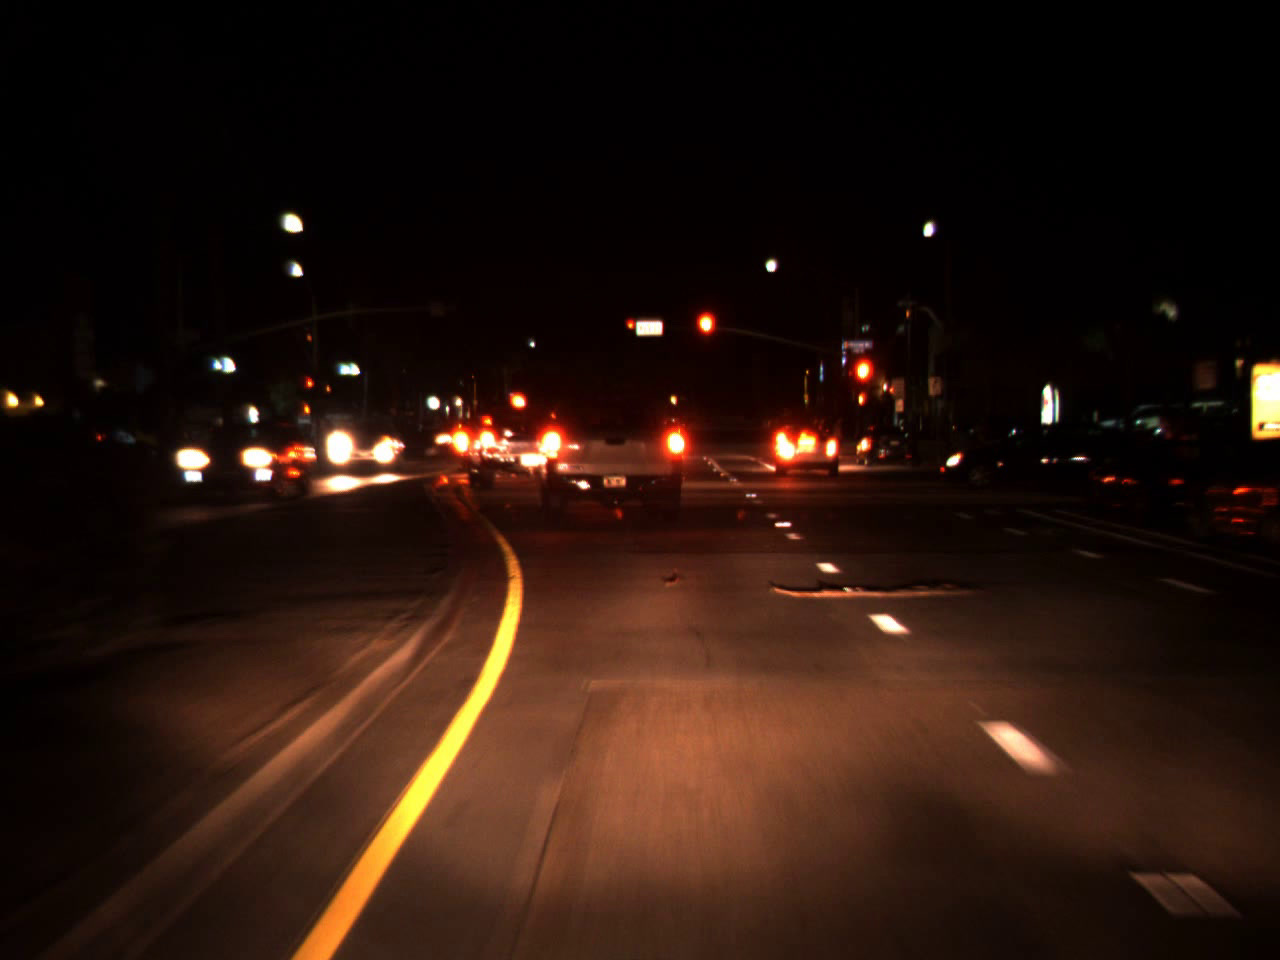stop: (850, 354, 877, 413), (694, 307, 718, 363), (304, 375, 316, 399), (626, 318, 635, 339)
